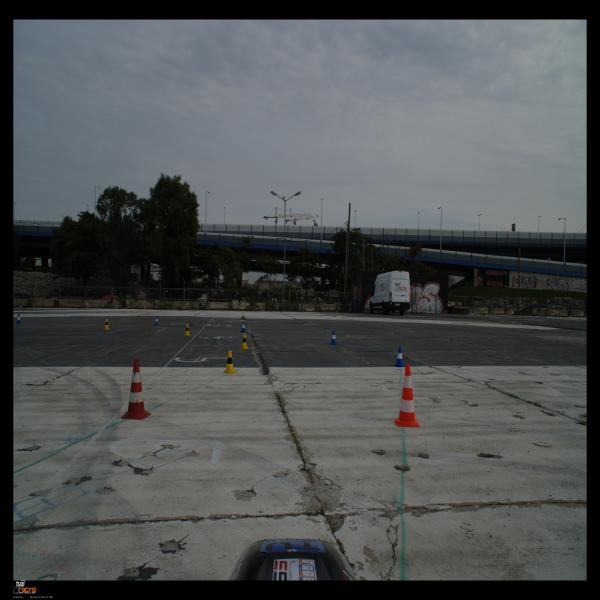blue_cone: (394, 346, 405, 367), (329, 331, 338, 345), (16, 314, 22, 324), (240, 322, 246, 332), (154, 316, 159, 326)
large_orange_cone: (121, 358, 151, 419), (394, 364, 420, 427)
yellow_cone: (223, 350, 237, 374), (239, 333, 250, 349), (103, 318, 110, 330), (183, 324, 190, 336)
